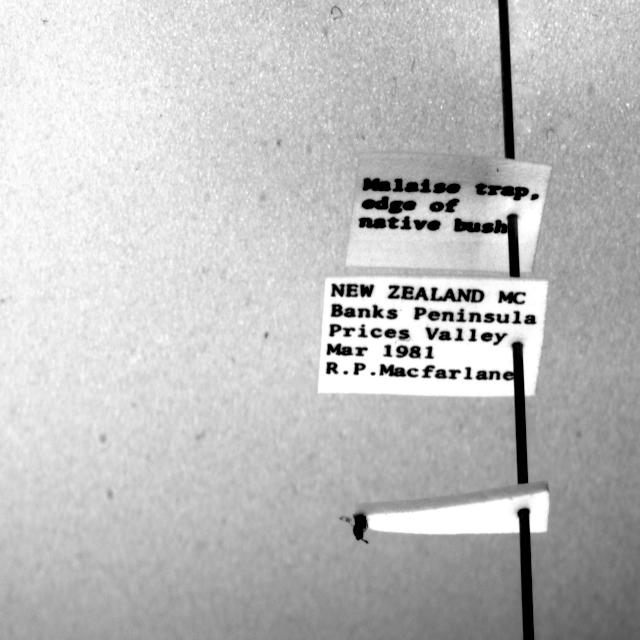typed_label: (319, 278, 548, 396), (346, 152, 551, 272)
